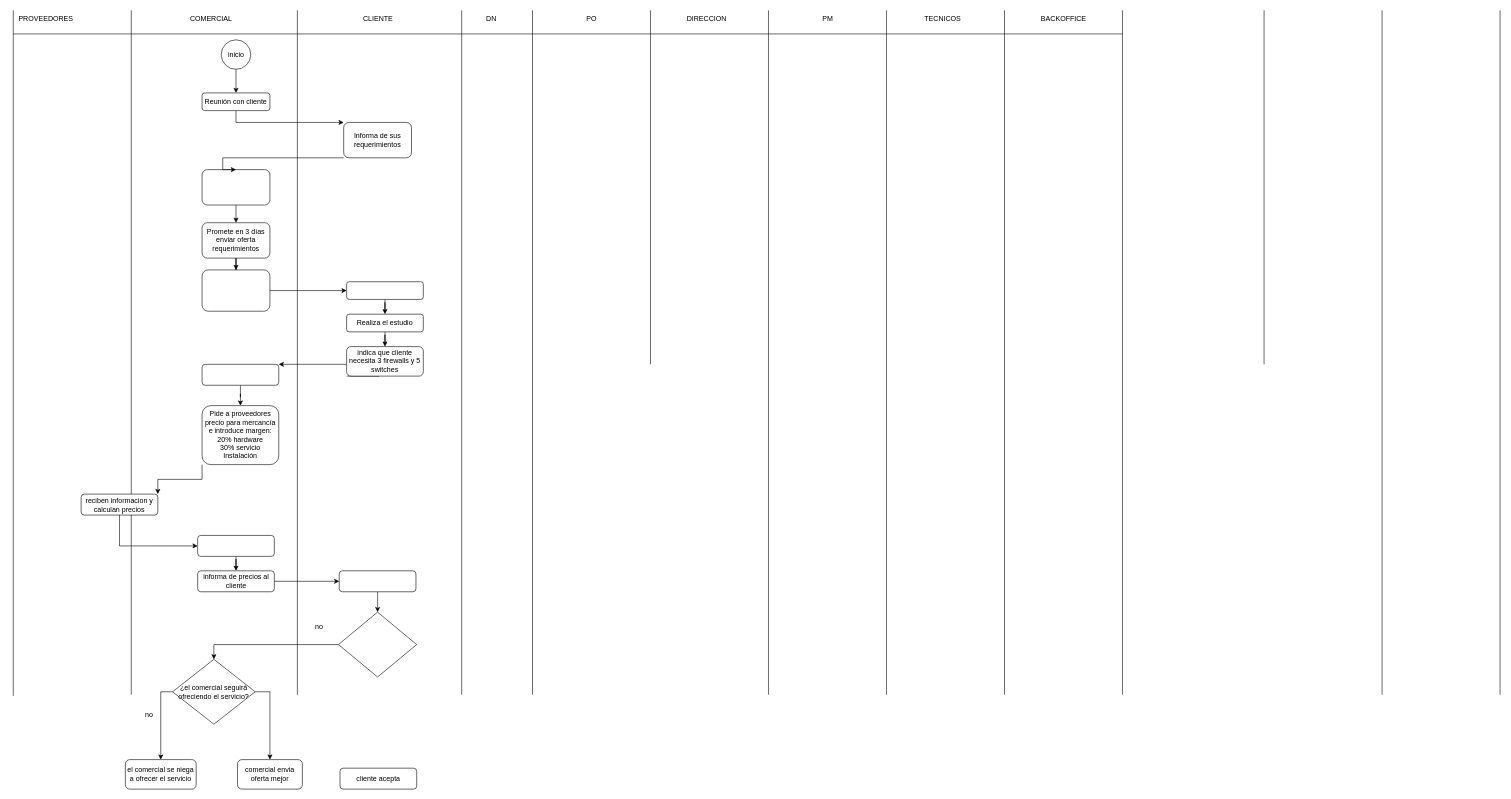
Image size: 1511x799. Some labels were removed from this diagram. Each missing label, with the centre of its shape:
"envía requerimientos del cliente y establece plazo de un dia para la respuesta" goes at point 235,290.
"Identificar necesidades de cliente" goes at point 235,187.
"Recibe necesidades cliente" goes at point 240,374.
"recibe precios" goes at point 377,581.
"recibe requerimientos del cliente" goes at point 384,290.
"reciben precios" goes at point 235,545.
"¿el cliente acepta la oferta?" goes at point 377,644.
